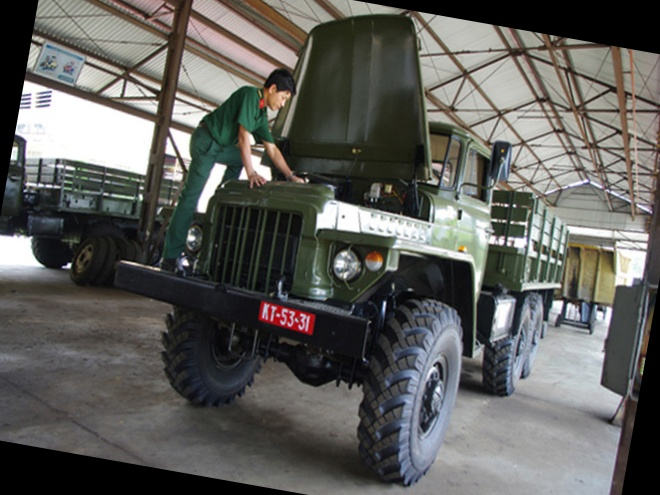plate: (255, 297, 315, 336)
